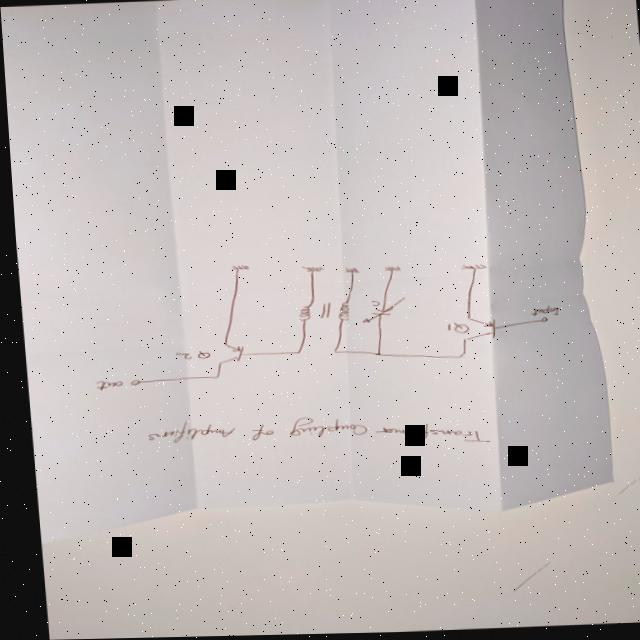capacitor: (354, 298, 403, 324)
ground: (454, 264, 483, 272), (295, 266, 322, 274), (224, 264, 246, 271), (377, 266, 398, 273), (338, 268, 356, 274)
junction: (452, 353, 461, 359), (369, 353, 377, 357), (325, 350, 333, 354), (288, 351, 295, 355), (207, 375, 214, 379)
terminal: (123, 379, 135, 385), (534, 318, 543, 324)
text: (137, 409, 485, 455), (168, 349, 205, 360), (524, 306, 555, 319), (87, 379, 118, 391), (439, 323, 464, 335), (366, 301, 376, 307)
transformer: (292, 301, 345, 323)
transistor: (455, 317, 492, 342), (211, 343, 240, 364)
